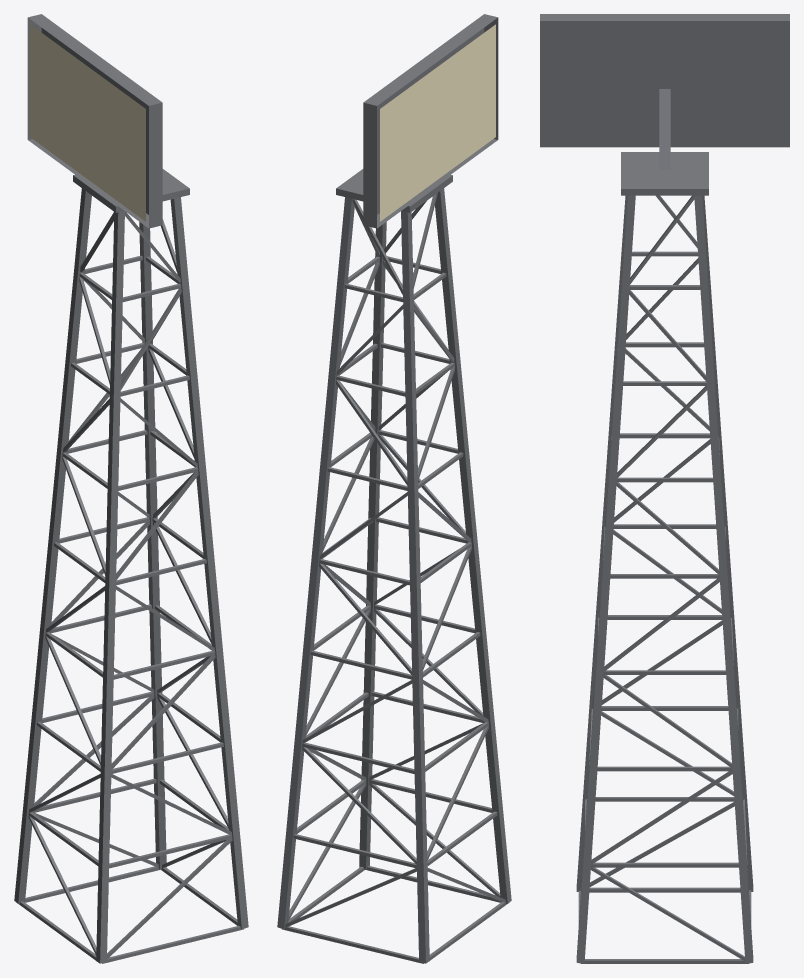
File: SM_LightTower.fbx
The picture shows the model from 3 angles, left to right: view 1: azimuth 30°, elevation 25°; view 2: azimuth 150°, elevation 25°; view 3: azimuth 270°, elevation 25°; orthographic projection. The views are drawn at different scales.
Parts seen in each view (by area): view 1: SM_LightTower; view 2: SM_LightTower; view 3: SM_LightTower.
Boxes of the visible parts, <box> form: SM_LightTower: <box>14,14,248,963</box>; SM_LightTower: <box>277,14,511,963</box>; SM_LightTower: <box>540,14,789,963</box>.
Size of the model in its own units: 964 by 1360 by 5360.
